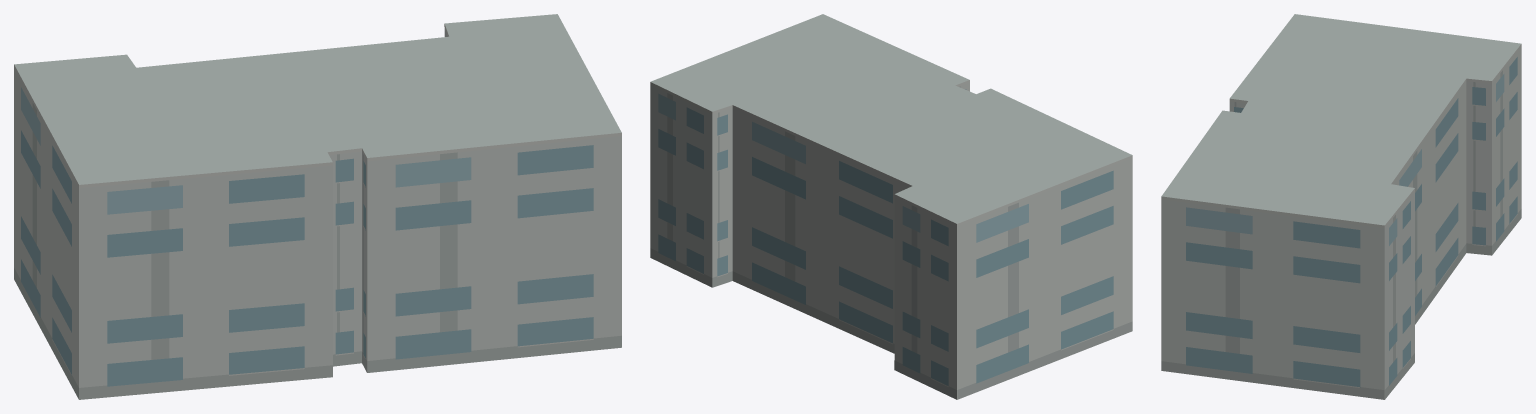
The model's file is survey-upis-32833342.glb.
The picture shows the model from 3 angles, left to right: view 1: azimuth 30°, elevation 25°; view 2: azimuth 150°, elevation 25°; view 3: azimuth 270°, elevation 25°; orthographic projection. The views are drawn at different scales.
Visible parts, largest first — view 1: survey-upis-32833342.tmp; view 2: survey-upis-32833342.tmp; view 3: survey-upis-32833342.tmp.
Part boxes in pixels (<box>): survey-upis-32833342.tmp: <box>14,14,621,399</box>; survey-upis-32833342.tmp: <box>650,14,1132,399</box>; survey-upis-32833342.tmp: <box>1161,14,1521,399</box>.
Size of the model in its own units: 40.57 by 15.6 by 29.21.
